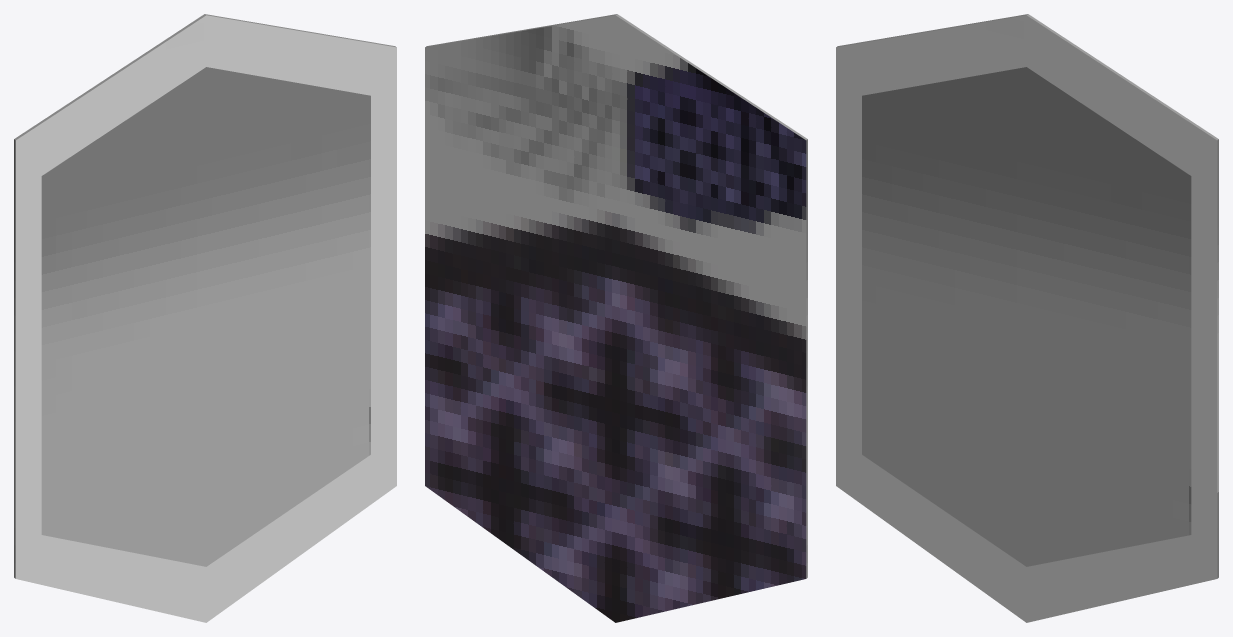
The model's file is themagician.obj.
3 renders of one model, left to right at view 1: azimuth 30°, elevation 25°; view 2: azimuth 150°, elevation 25°; view 3: azimuth 330°, elevation 25°, orthographic.
Size of the model in its own units: 62 by 94.45 by 0.5.
